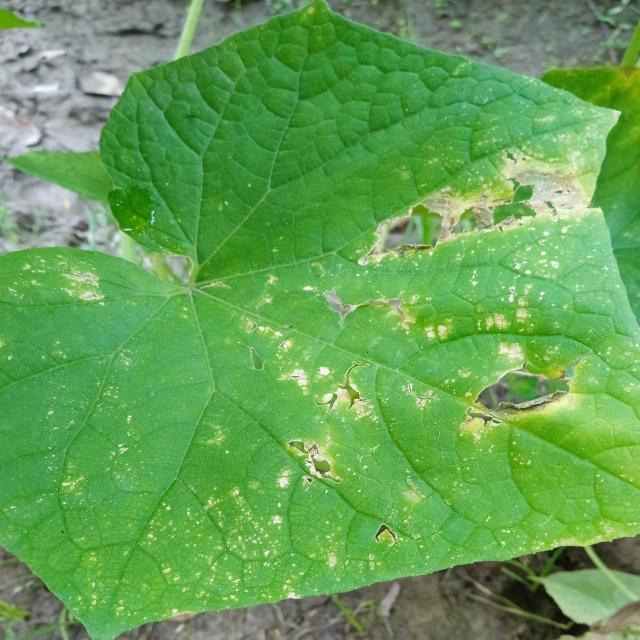cucumber_anthracnose: (82, 110, 611, 552)
